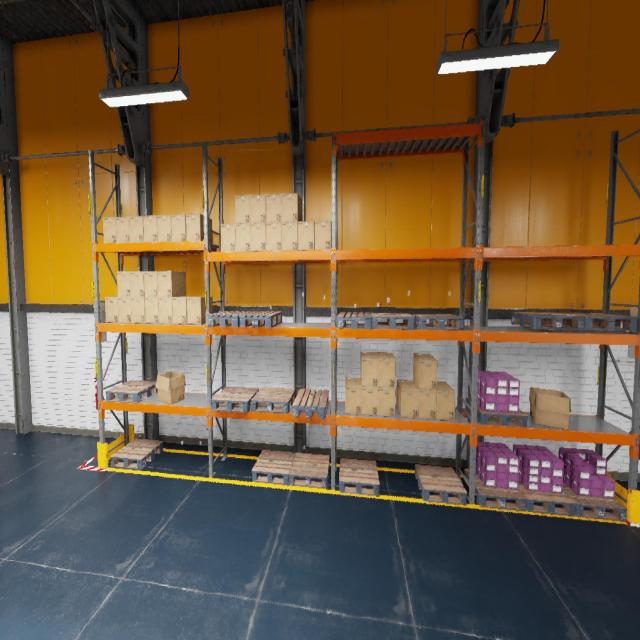box: (529, 387, 571, 430), (155, 371, 186, 404), (413, 380, 436, 420), (413, 353, 437, 390), (396, 380, 418, 418), (186, 214, 212, 244), (157, 271, 186, 297), (186, 296, 212, 324), (436, 382, 455, 420), (376, 352, 396, 388), (172, 296, 195, 324), (345, 377, 361, 415), (282, 192, 302, 222), (361, 352, 378, 387), (361, 386, 378, 416), (378, 388, 395, 417), (315, 220, 331, 250), (298, 221, 314, 250), (266, 222, 282, 251), (250, 194, 266, 223), (282, 222, 298, 250), (250, 222, 266, 250), (220, 224, 236, 252), (266, 193, 281, 222), (235, 195, 250, 223), (171, 214, 186, 241), (236, 224, 250, 252), (158, 298, 173, 324), (143, 215, 157, 242), (144, 297, 158, 323), (131, 297, 145, 323), (144, 271, 158, 297), (130, 271, 144, 297), (117, 271, 131, 297), (157, 215, 171, 241), (130, 216, 144, 242), (116, 216, 130, 242), (105, 296, 118, 322), (103, 217, 116, 243), (118, 298, 131, 322)
pallets: (464, 468, 526, 512), (563, 482, 627, 521), (414, 464, 467, 505), (519, 481, 575, 516), (466, 398, 528, 427), (110, 438, 163, 469), (339, 458, 380, 496), (556, 312, 637, 331), (252, 450, 295, 485), (289, 453, 329, 489), (511, 312, 584, 329), (211, 387, 259, 412), (106, 380, 158, 403), (251, 387, 295, 414), (292, 389, 329, 419), (413, 314, 464, 330), (371, 312, 415, 330), (207, 311, 253, 327), (239, 311, 282, 328), (337, 312, 372, 329)
